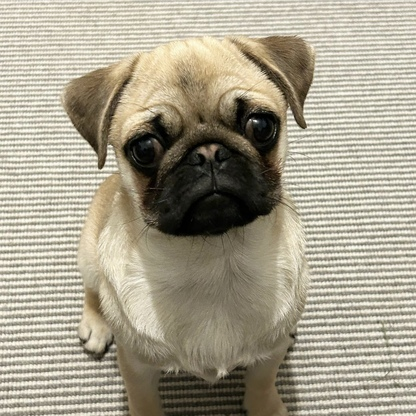Pug: (55, 30, 320, 416)
